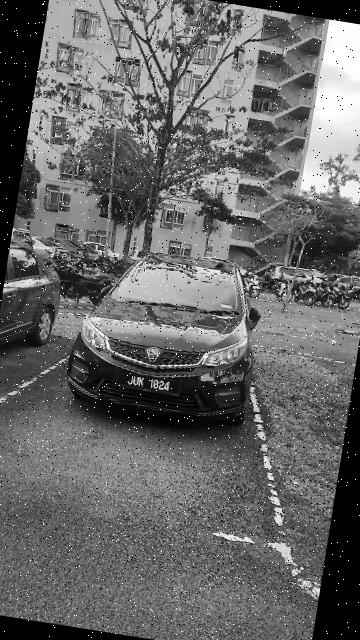License_Plate: (112, 366, 191, 402)
car: (57, 236, 275, 442)
